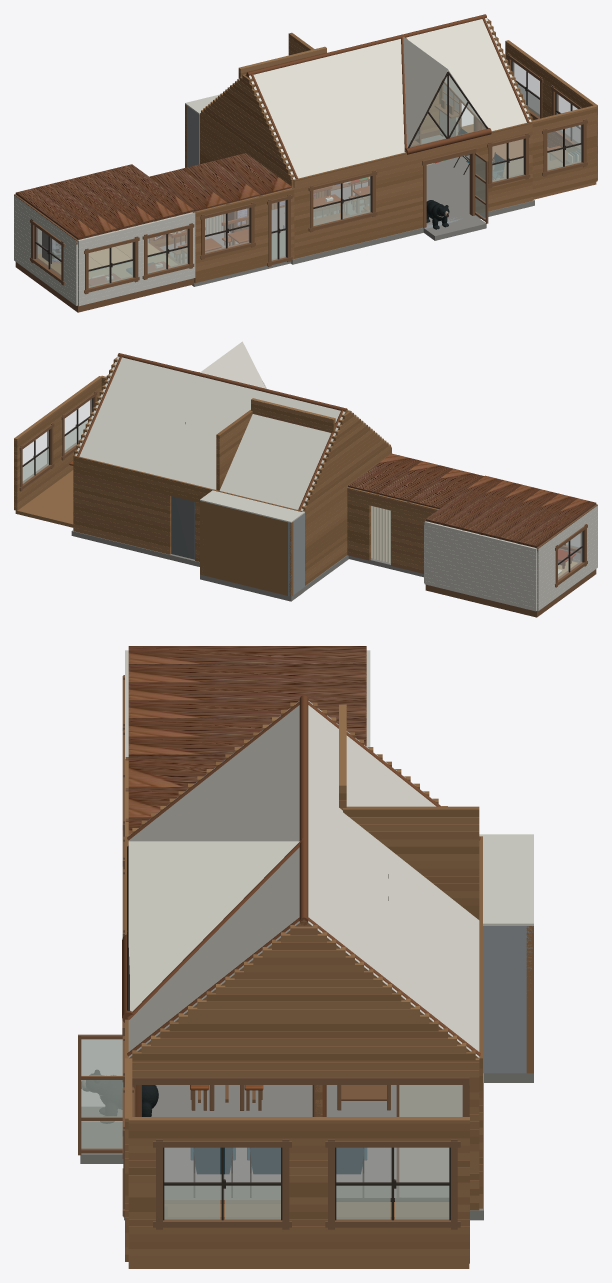
Rendered from room.glb.
3 views of the same model, one above another, from view 1: azimuth 30°, elevation 25°; view 2: azimuth 150°, elevation 25°; view 3: azimuth 270°, elevation 25° (orthographic). The views are drawn at different scales.
Visible parts, largest first — view 1: web_roof, web_01_MAIN_SHELL, web_08_TATAMI_ROOM, web_14_BLUE_CHAIR_REAR_BAY, web_03_OPENINGS, web_07_LOW_DINING_BAY, web_04_MAIN_FURNITURE, web_15_ENTRANCE_BEAR, web_05_COUNTER_VISIBLE_KITCHEN; view 2: web_roof, web_01_MAIN_SHELL, web_08_TATAMI_ROOM, web_05_COUNTER_VISIBLE_KITCHEN, web_14_BLUE_CHAIR_REAR_BAY, web_07_LOW_DINING_BAY, web_06_EQUIPMENT_DOOR_AND_SINK; view 3: web_roof, web_14_BLUE_CHAIR_REAR_BAY, web_01_MAIN_SHELL, web_05_COUNTER_VISIBLE_KITCHEN, web_03_OPENINGS, web_04_MAIN_FURNITURE, web_15_ENTRANCE_BEAR, web_08_TATAMI_ROOM.
Part boxes in pixels (left/top/right/bottom): web_roof: left=14, top=14, right=532, bottom=244; web_01_MAIN_SHELL: left=200, top=84, right=534, bottom=264; web_08_TATAMI_ROOM: left=14, top=194, right=195, bottom=312; web_14_BLUE_CHAIR_REAR_BAY: left=434, top=40, right=597, bottom=199; web_03_OPENINGS: left=308, top=71, right=530, bottom=232; web_07_LOW_DINING_BAY: left=148, top=188, right=294, bottom=286; web_04_MAIN_FURNITURE: left=313, top=127, right=505, bottom=223; web_15_ENTRANCE_BEAR: left=423, top=200, right=486, bottom=240; web_05_COUNTER_VISIBLE_KITCHEN: left=185, top=104, right=369, bottom=209; web_roof: left=74, top=341, right=597, bottom=552; web_01_MAIN_SHELL: left=71, top=446, right=391, bottom=591; web_08_TATAMI_ROOM: left=424, top=504, right=597, bottom=617; web_05_COUNTER_VISIBLE_KITCHEN: left=200, top=501, right=304, bottom=601; web_14_BLUE_CHAIR_REAR_BAY: left=14, top=375, right=106, bottom=527; web_07_LOW_DINING_BAY: left=347, top=487, right=438, bottom=577; web_06_EQUIPMENT_DOOR_AND_SINK: left=171, top=496, right=194, bottom=559; web_roof: left=125, top=646, right=533, bottom=1060; web_14_BLUE_CHAIR_REAR_BAY: left=122, top=1058, right=469, bottom=1268; web_01_MAIN_SHELL: left=124, top=834, right=483, bottom=1220; web_05_COUNTER_VISIBLE_KITCHEN: left=337, top=926, right=533, bottom=1110; web_03_OPENINGS: left=78, top=845, right=326, bottom=1158; web_04_MAIN_FURNITURE: left=190, top=1085, right=367, bottom=1197; web_15_ENTRANCE_BEAR: left=80, top=1070, right=158, bottom=1163; web_08_TATAMI_ROOM: left=122, top=650, right=370, bottom=837.
Bounding box in the file's own units: 18.47 × 5.3 × 7.29.
Materials: 68 (27 with a texture image).
